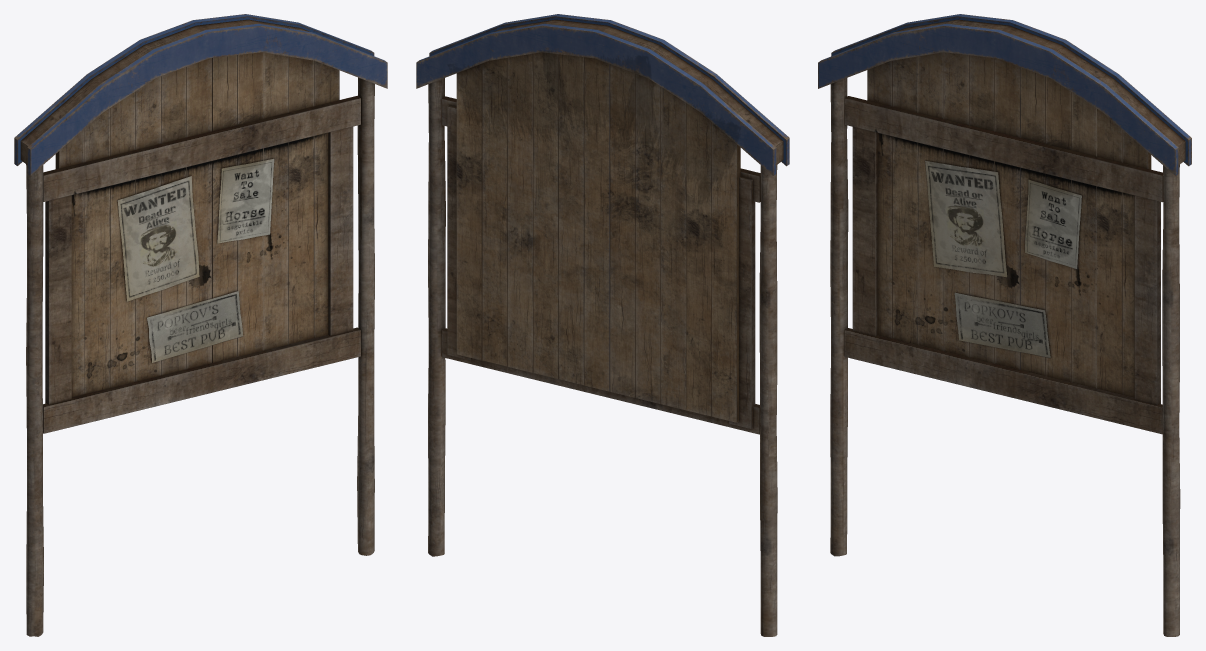
Rendered from info.fbx.
The picture shows the model from 3 angles, left to right: view 1: azimuth 30°, elevation 25°; view 2: azimuth 150°, elevation 25°; view 3: azimuth 330°, elevation 25°; orthographic projection.
Parts seen in each view (by area): view 1: stand; view 2: stand; view 3: stand.
Part boxes in pixels (left/top/right/bottom): stand: left=14, top=14, right=387, bottom=636; stand: left=416, top=14, right=789, bottom=636; stand: left=818, top=14, right=1191, bottom=636.
Size of the model in its own units: 151 by 229 by 11.89.
